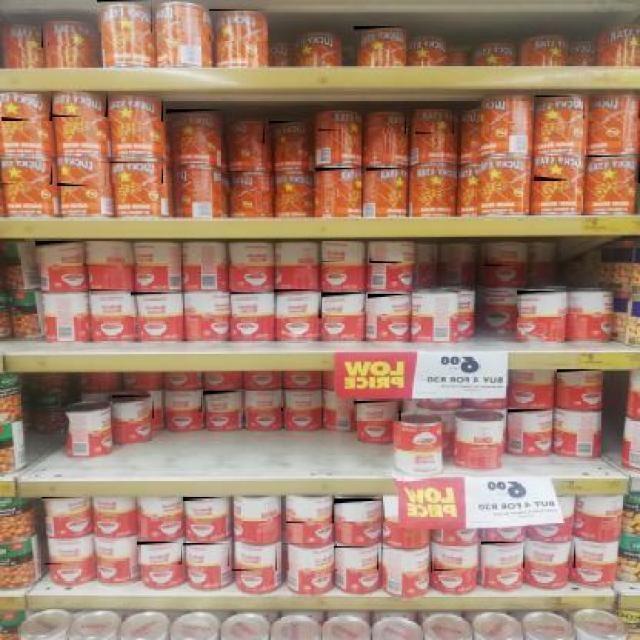Beans: (208, 9, 268, 42), (96, 1, 152, 33), (164, 110, 224, 138), (586, 156, 639, 187), (106, 95, 163, 123), (281, 543, 336, 572), (48, 92, 107, 119), (477, 93, 532, 121), (81, 240, 136, 268), (272, 289, 321, 320), (46, 20, 100, 48), (523, 540, 575, 569), (56, 158, 106, 188), (0, 93, 52, 121), (270, 240, 322, 268), (230, 542, 278, 572), (476, 158, 530, 184), (129, 292, 183, 318), (284, 496, 334, 524), (42, 539, 92, 567), (532, 156, 585, 182), (227, 240, 276, 268), (380, 548, 432, 574), (0, 160, 52, 186), (34, 240, 88, 265), (352, 26, 406, 51), (388, 451, 444, 475), (230, 292, 276, 321), (516, 291, 564, 318), (332, 499, 385, 523), (587, 95, 640, 119), (89, 290, 134, 318), (107, 162, 164, 184), (534, 95, 584, 120), (128, 243, 178, 268), (478, 542, 524, 569), (506, 409, 554, 434), (568, 542, 618, 566), (564, 291, 614, 315), (432, 546, 478, 572), (186, 291, 232, 317), (182, 543, 229, 568), (269, 171, 314, 197), (136, 542, 182, 567), (317, 240, 366, 263), (110, 395, 155, 420), (333, 546, 378, 571), (483, 243, 528, 268), (368, 243, 418, 265), (137, 495, 186, 517), (320, 292, 369, 314), (413, 163, 456, 188), (313, 168, 364, 189), (94, 537, 135, 563), (182, 497, 228, 520), (352, 400, 400, 422), (222, 120, 264, 145), (414, 110, 454, 136), (39, 497, 87, 518), (268, 120, 308, 145), (364, 168, 408, 190), (222, 171, 268, 192), (366, 112, 406, 136), (280, 388, 323, 410), (242, 390, 283, 413), (202, 391, 243, 414), (2, 26, 43, 49), (367, 295, 411, 316), (162, 391, 202, 414), (505, 369, 552, 388), (556, 370, 604, 388), (317, 112, 360, 132), (90, 497, 136, 515)
